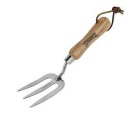fork: (16, 5, 122, 108)
